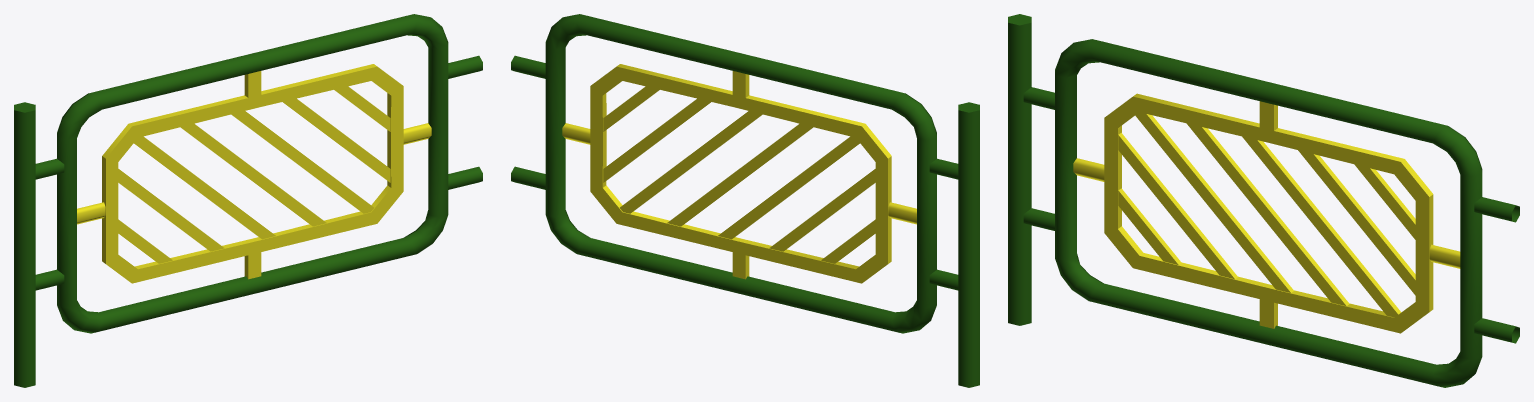
Rendered from Guard.fbx.
3 renders of one model, left to right at view 1: azimuth 30°, elevation 25°; view 2: azimuth 150°, elevation 25°; view 3: azimuth 330°, elevation 25°, orthographic. The views are drawn at different scales.
Visible parts, largest first — view 1: Cylinder001, Cylinder003; view 2: Cylinder001, Cylinder003; view 3: Cylinder001, Cylinder003.
Part boxes in pixels (x1,y1,x2,y2): Cylinder001: (14, 14, 482, 387); Cylinder003: (77, 64, 431, 283); Cylinder001: (511, 14, 979, 387); Cylinder003: (562, 64, 916, 283); Cylinder001: (1008, 14, 1519, 387); Cylinder003: (1073, 93, 1460, 333).
Size of the model in its own units: 175 by 98.77 by 7.04.
